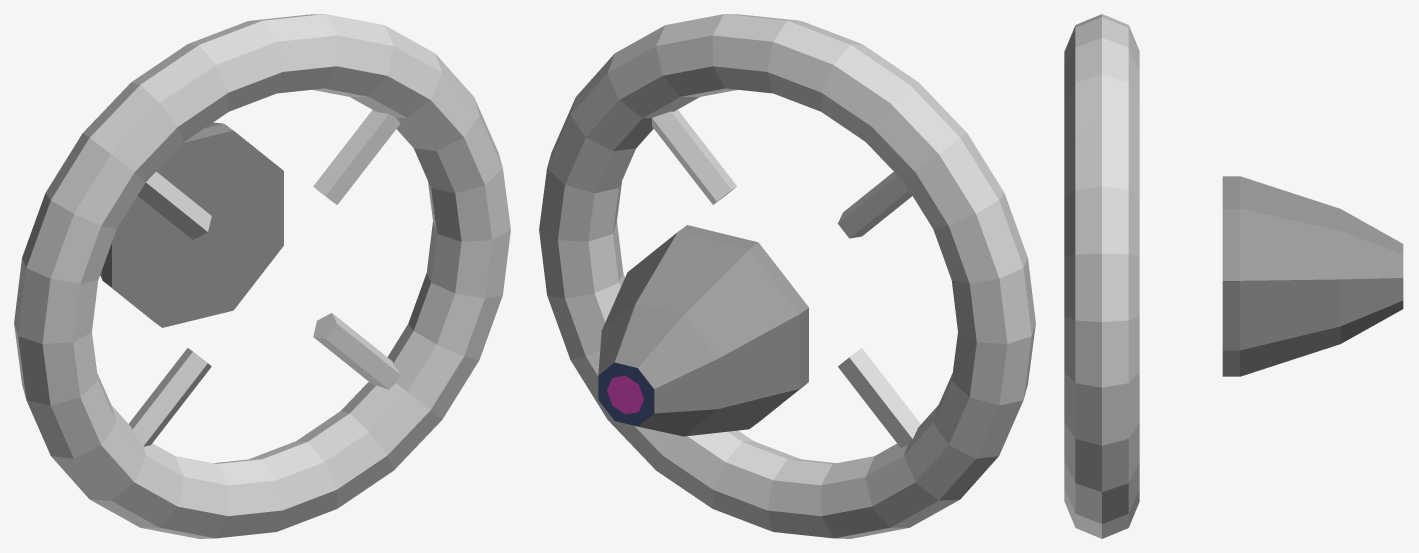
The model's file is engine_ring.obj.
The picture shows the model from 3 angles, left to right: view 1: azimuth 30°, elevation 25°; view 2: azimuth 150°, elevation 25°; view 3: azimuth 270°, elevation 25°; orthographic projection. The views are drawn at different scales.
Parts seen in each view (by area): view 1: ring, object 2; view 2: ring, object 2; view 3: ring, object 2.
Part boxes in pixels (x1=…): ring: x1=14, y1=14, x2=510, y2=538; object 2: x1=100, y1=122, x2=283, y2=327; ring: x1=539, y1=14, x2=1035, y2=538; object 2: x1=598, y1=225, x2=808, y2=436; ring: x1=1064, y1=14, x2=1139, y2=538; object 2: x1=1222, y1=176, x2=1403, y2=376.
Size of the model in its own units: 2.1 by 2.1 by 1.35.
